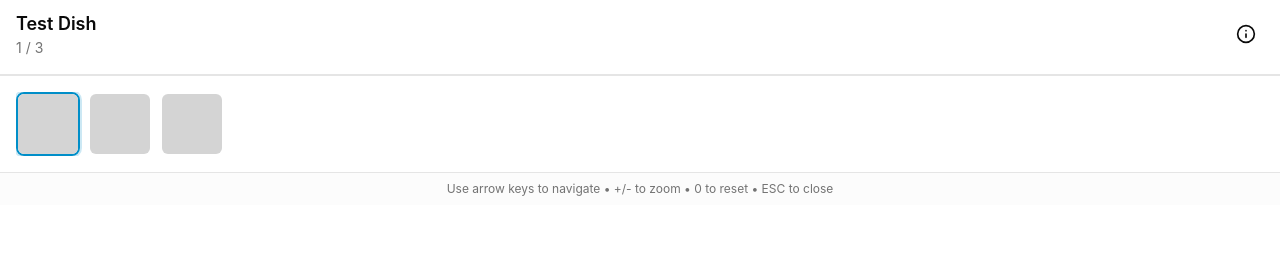
FallbackGallery › should show description when provided
Click the button named "Toggle description": (1246, 34) x1=1228 y1=16 x2=1264 y2=52
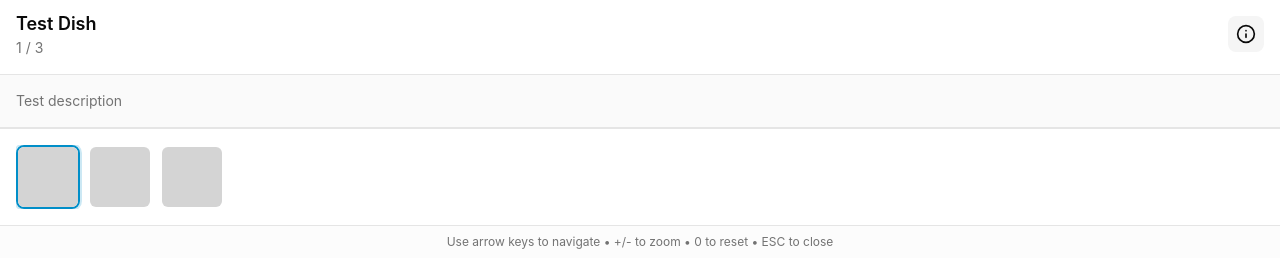
Expected: the text "Test description" is shown, x1=16 y1=92 x2=122 y2=109
